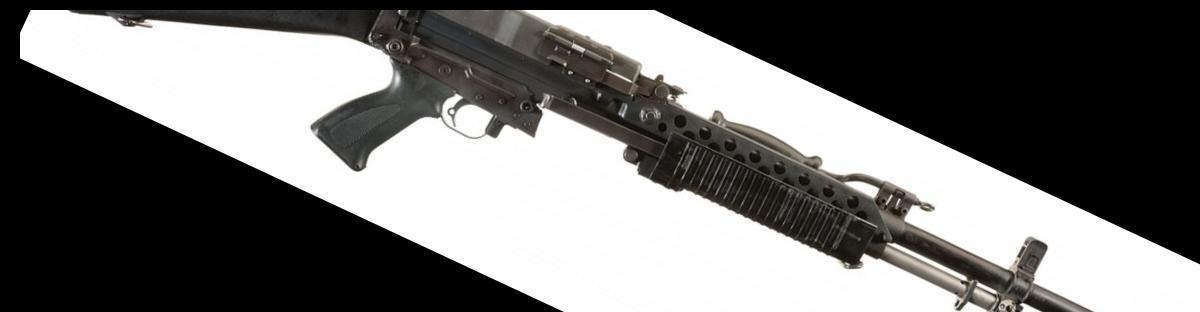larga: (68, 9, 1092, 312)
